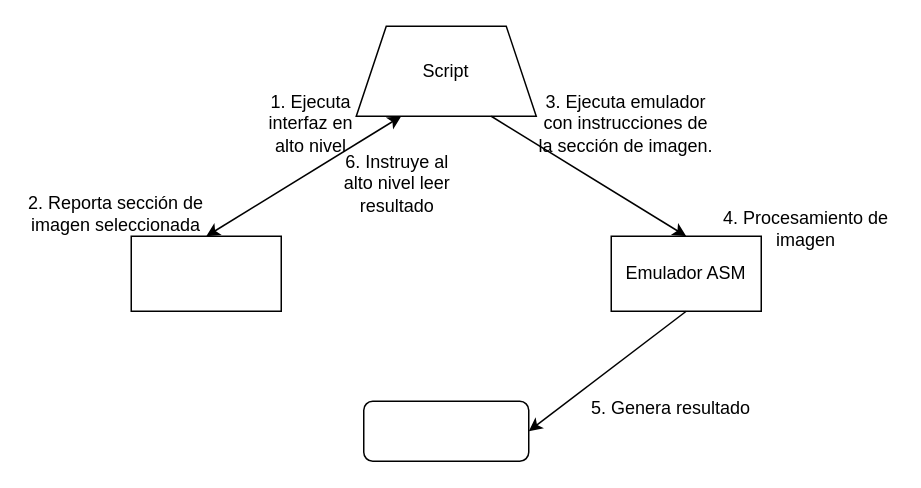
The diagram is 921 pixels wide and 488 high, and some of its shapes have lost their labels. The box of each missing label's shape, as (x1, y1, x2, y2) in pixels:
Archivo resultado: (362, 400, 529, 461)
Rust / Python / C: (130, 235, 281, 311)
